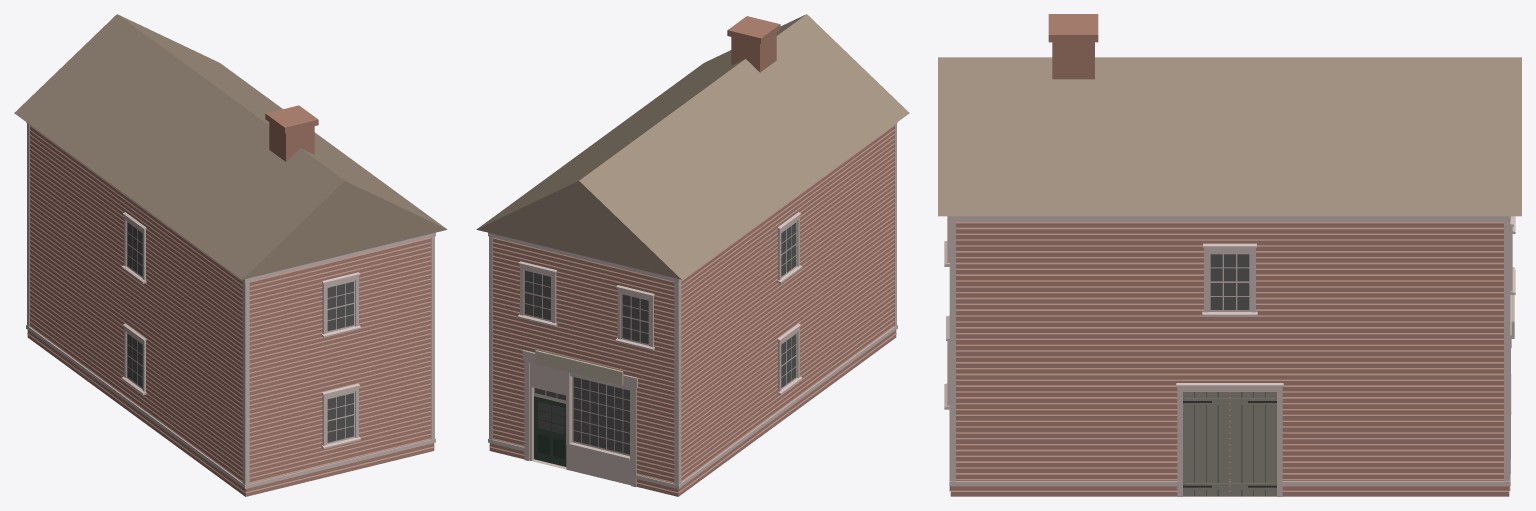
Rendered from recon_1835_gifford_c3_013__inferred_1835.glb.
The picture shows the model from 3 angles, left to right: view 1: azimuth 30°, elevation 25°; view 2: azimuth 150°, elevation 25°; view 3: azimuth 270°, elevation 25°; orthographic projection. The views are drawn at different scales.
Parts seen in each view (by area): view 1: recon_1835_gifford_c3_013__inferred_1835; view 2: recon_1835_gifford_c3_013__inferred_1835; view 3: recon_1835_gifford_c3_013__inferred_1835.
Part boxes in pixels (x1=…): recon_1835_gifford_c3_013__inferred_1835: x1=14, y1=14, x2=447, y2=496; recon_1835_gifford_c3_013__inferred_1835: x1=476, y1=14, x2=909, y2=496; recon_1835_gifford_c3_013__inferred_1835: x1=938, y1=14, x2=1521, y2=496.
Size of the model in its own units: 6 by 8.97 by 11.5.
